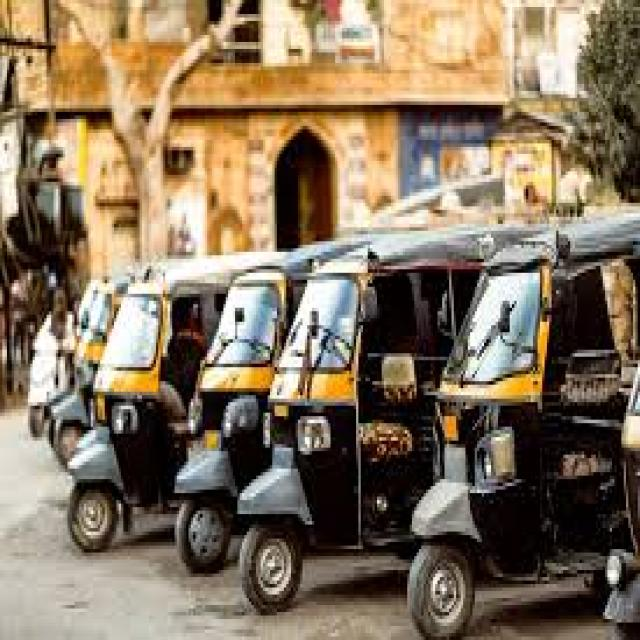tuktuk: (395, 108, 640, 639), (219, 180, 409, 640)
